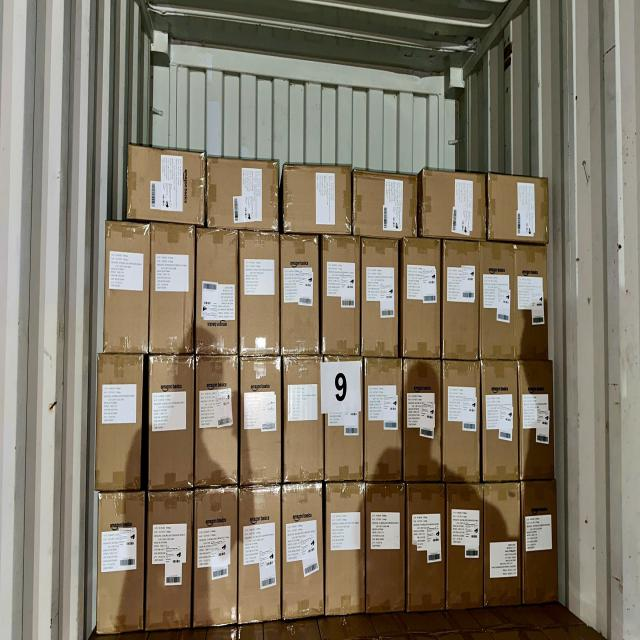Carton: (96, 494, 143, 634), (147, 492, 192, 635), (95, 356, 141, 493), (126, 148, 204, 228), (196, 490, 239, 632), (148, 358, 194, 490), (149, 226, 194, 360), (108, 223, 152, 358), (237, 490, 279, 626), (282, 483, 322, 621), (197, 355, 239, 486), (238, 356, 280, 486), (204, 159, 278, 232), (365, 482, 405, 616), (322, 355, 364, 482), (196, 231, 238, 357), (327, 483, 366, 615), (408, 482, 446, 614), (238, 233, 278, 358), (283, 356, 322, 484), (483, 484, 522, 610), (323, 236, 363, 357), (282, 169, 352, 238), (444, 482, 481, 612), (403, 240, 443, 360), (279, 235, 319, 355), (364, 357, 402, 483), (405, 361, 443, 485), (441, 359, 479, 483), (482, 362, 520, 485), (524, 483, 562, 606), (420, 172, 486, 242), (520, 359, 557, 481), (360, 240, 398, 358), (445, 242, 482, 360), (351, 174, 417, 240), (491, 175, 552, 246), (480, 244, 516, 361), (516, 249, 551, 363)
